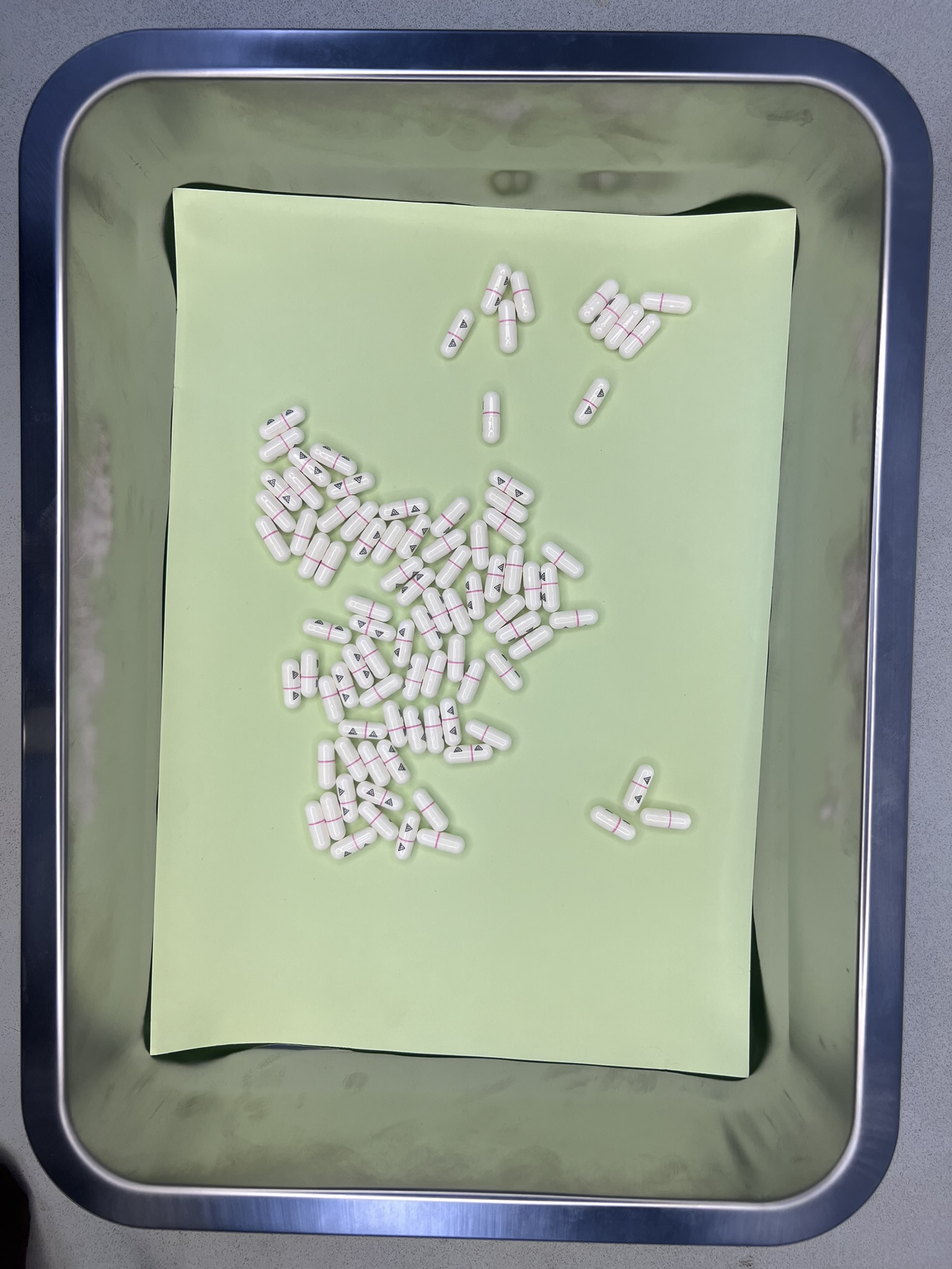Capsule: (282, 465, 326, 510), (619, 313, 661, 360), (539, 540, 587, 581), (439, 306, 475, 360), (254, 514, 292, 565), (258, 467, 303, 510), (573, 376, 611, 426), (356, 799, 401, 841), (285, 447, 332, 487), (589, 805, 638, 843), (254, 489, 296, 533), (483, 591, 525, 635), (590, 292, 630, 338), (354, 739, 393, 786), (488, 468, 536, 506), (579, 278, 620, 322), (483, 485, 530, 523), (411, 786, 449, 833), (421, 586, 458, 634), (484, 647, 524, 691), (481, 506, 526, 545), (375, 738, 413, 784), (309, 441, 358, 476), (410, 603, 445, 652), (354, 633, 391, 679), (507, 623, 554, 659), (430, 496, 471, 537), (464, 717, 513, 751), (329, 825, 378, 859), (481, 260, 511, 315), (345, 612, 400, 642), (376, 557, 424, 591), (622, 761, 654, 812), (606, 303, 641, 349), (259, 427, 305, 462), (358, 672, 404, 707), (258, 404, 306, 437), (356, 780, 405, 812), (296, 532, 330, 578), (420, 528, 466, 562), (341, 642, 375, 688), (335, 736, 369, 782), (372, 519, 406, 564), (330, 659, 360, 710), (456, 657, 487, 706), (316, 495, 358, 531), (442, 589, 474, 636), (397, 511, 428, 559), (496, 609, 541, 642), (509, 271, 537, 324), (396, 568, 436, 605), (303, 617, 354, 646), (415, 825, 466, 854), (344, 593, 393, 623), (400, 703, 428, 755), (305, 800, 334, 850), (351, 518, 386, 559), (436, 545, 470, 587), (318, 674, 347, 723), (290, 507, 318, 557), (341, 500, 375, 541), (315, 540, 345, 586), (639, 290, 692, 316), (320, 790, 346, 842), (382, 699, 409, 748), (335, 774, 362, 823), (325, 472, 375, 498), (482, 553, 507, 605), (420, 704, 445, 756), (394, 809, 420, 859), (420, 650, 445, 700), (468, 520, 492, 570), (403, 651, 428, 699), (281, 657, 304, 709), (442, 742, 495, 764), (642, 808, 692, 831), (440, 696, 462, 746), (464, 573, 487, 620), (497, 300, 517, 354), (338, 719, 389, 740), (445, 634, 466, 683), (378, 499, 431, 518), (483, 392, 502, 444), (318, 738, 337, 790), (549, 609, 598, 629), (540, 562, 559, 612), (300, 650, 320, 697), (524, 560, 542, 612), (394, 621, 413, 668), (505, 545, 522, 594)
